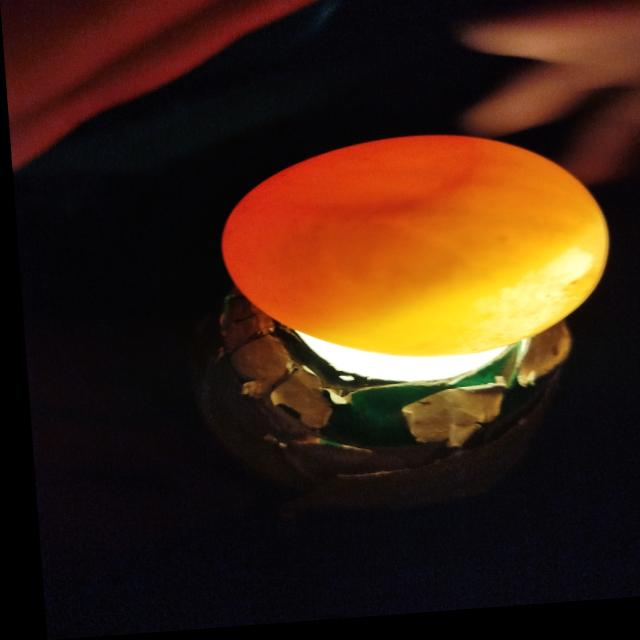Gema Quebrada: (220, 144, 510, 342)
